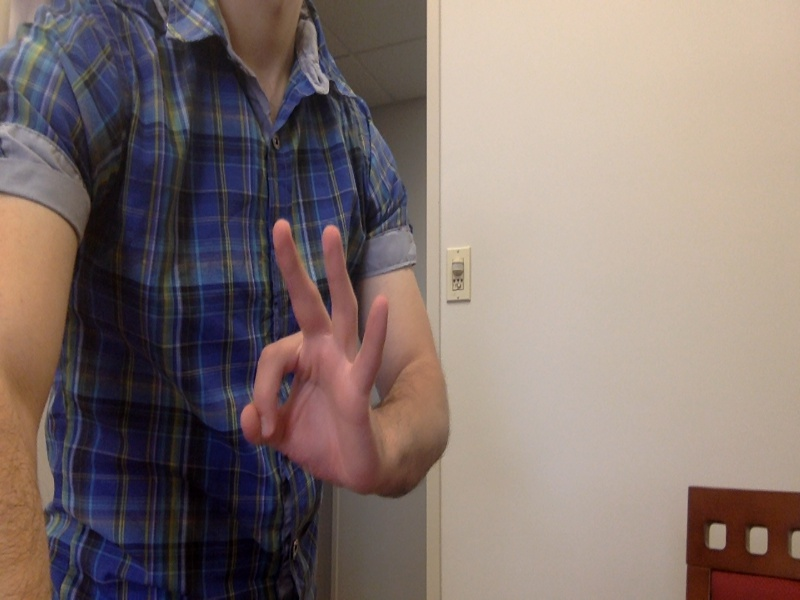3-hand: (248, 222, 390, 496)
